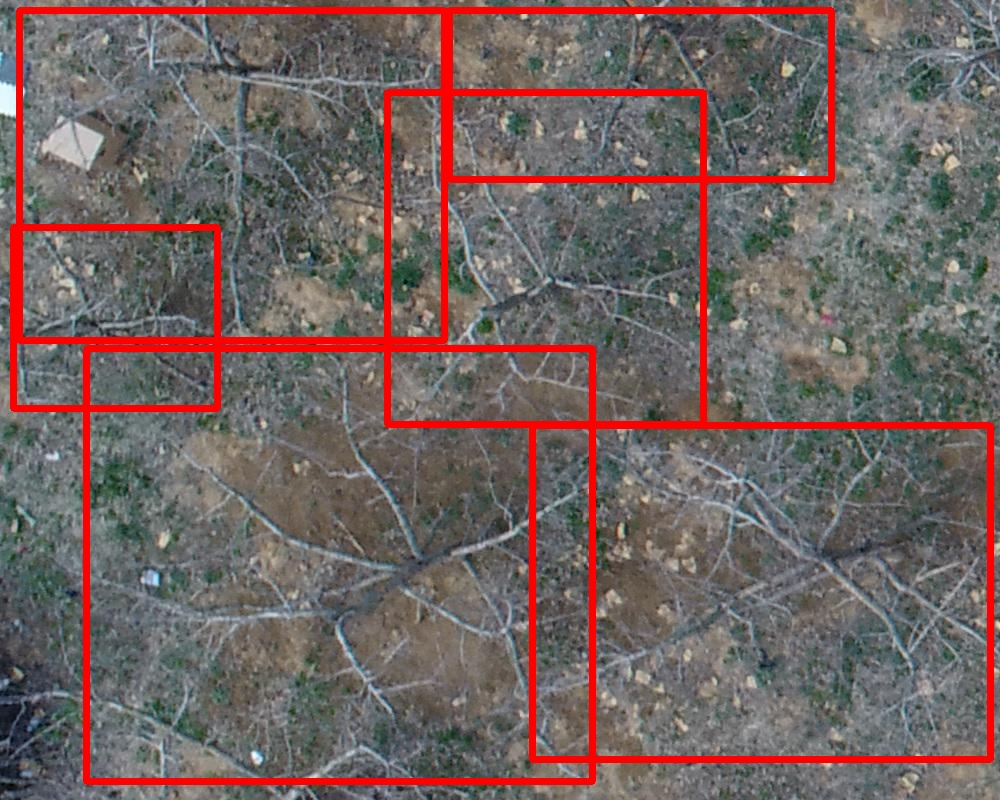apple: (86, 348, 592, 781), (532, 425, 990, 759), (19, 10, 444, 340), (387, 92, 703, 424), (449, 10, 831, 179), (13, 227, 217, 408)
